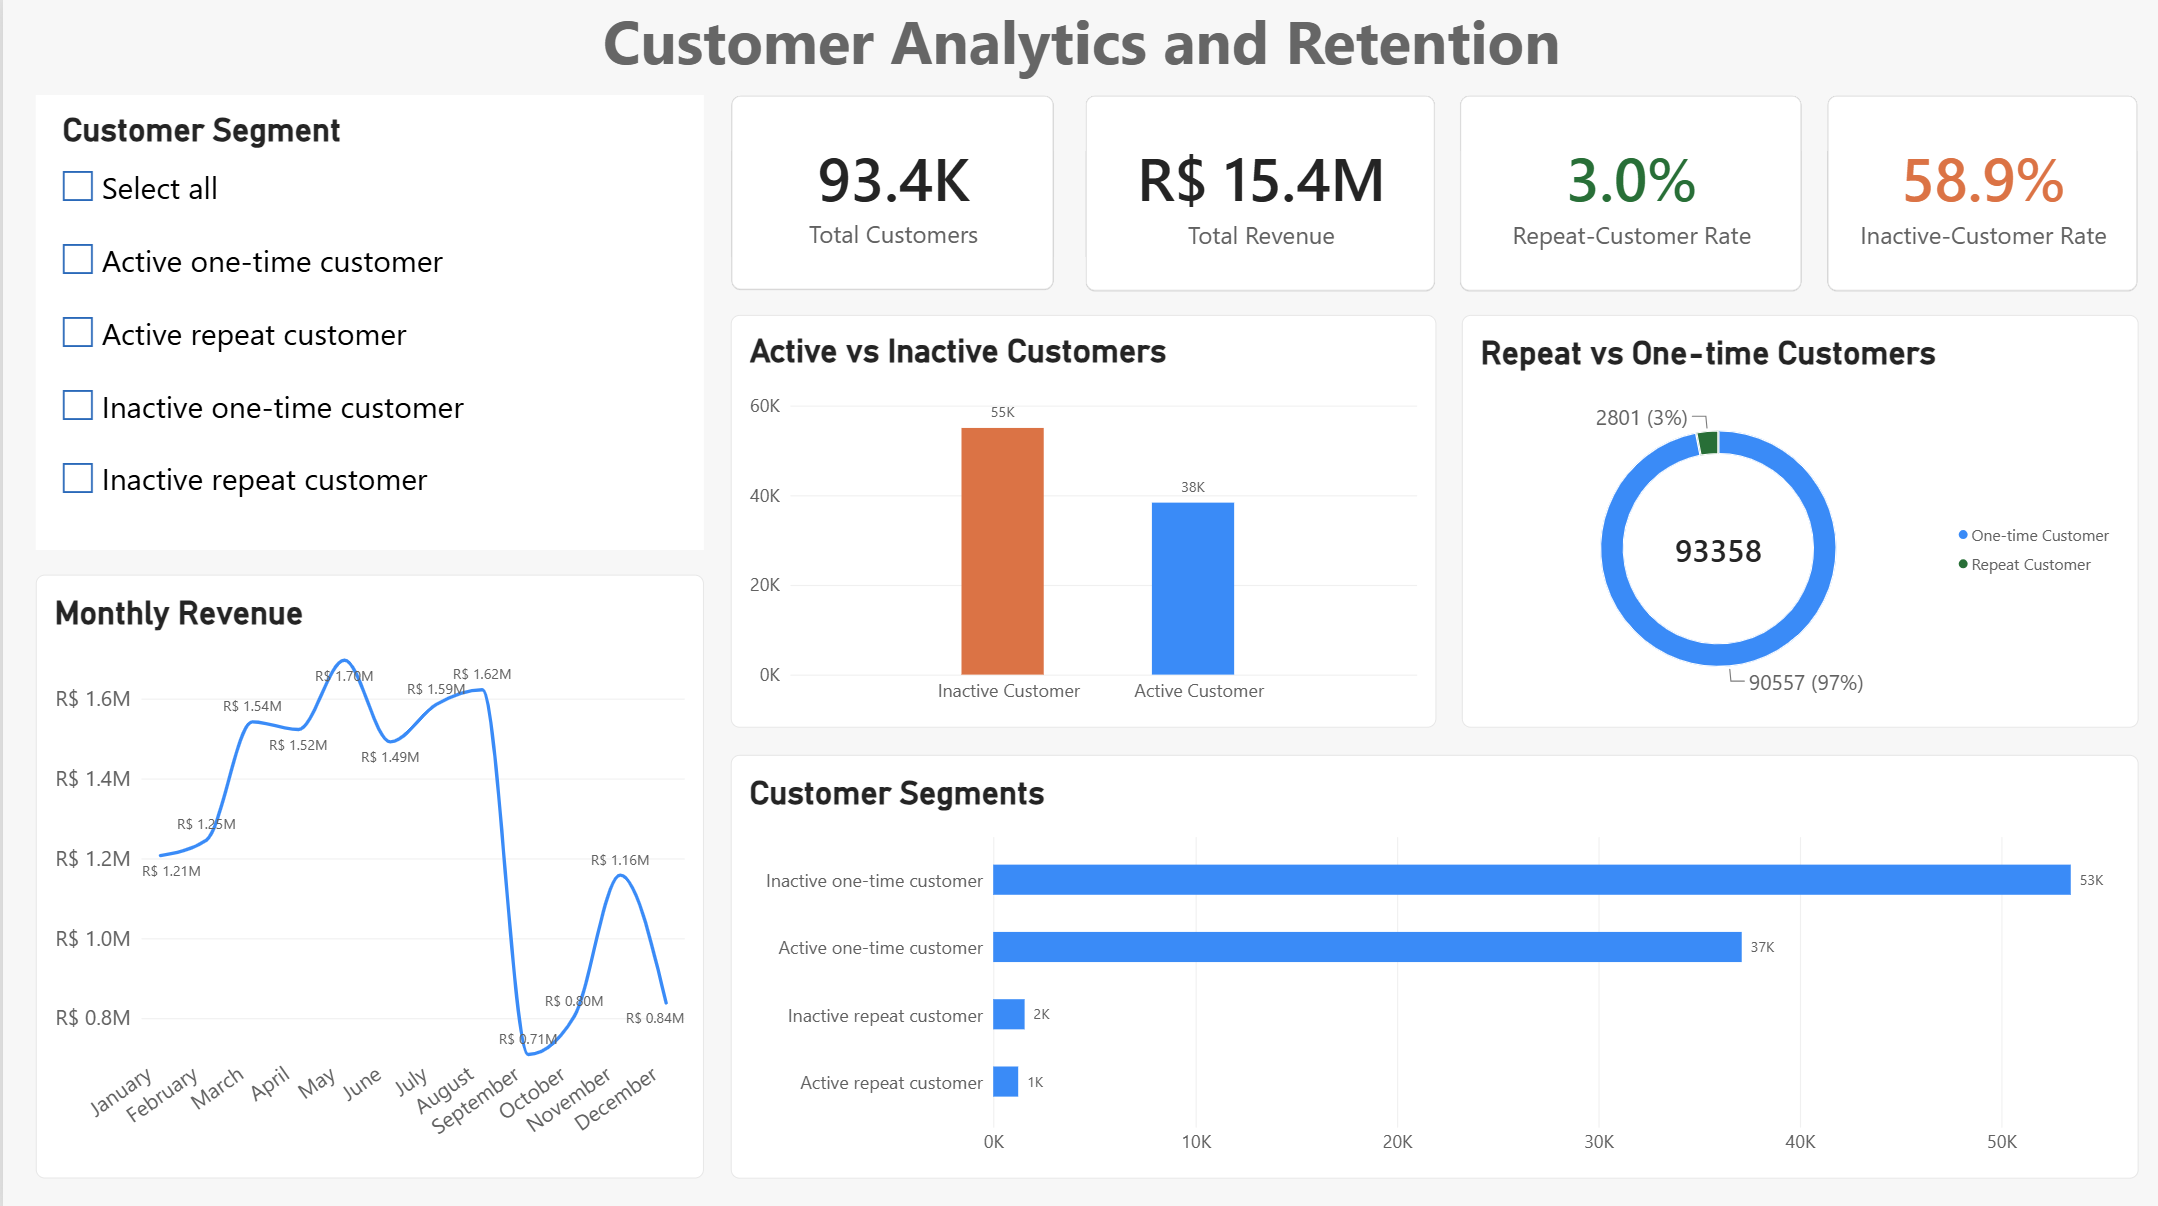

What the dashboard file says about the page in this screenshot:
{"tool":"powerbi","page":{"name":"Customer Analytics and Retention Dashboard","canvas":[1920,1080],"ordinal":0},"visuals":[{"type":"cardVisual","title":"Total Customers","fields":{"Data":["Count(customer_summary.customer_unique_id)"]},"box":[648,86,288,174],"z":0},{"type":"cardVisual","fields":{"Data":["Sum(customer_summary.total_payment)"]},"box":[963.3,85,312.5,175],"z":1000},{"type":"cardVisual","fields":{"Data":["Avg(customer_summary.is_repeat_customer)"]},"box":[1296.7,85,305,175],"z":2000},{"type":"cardVisual","fields":{"Data":["Avg(customer_summary.is_inactive)"]},"box":[1622.5,85,277.5,175],"z":3000},{"type":"clusteredBarChart","title":"Customer Segments","fields":{"Category":["customer_summary.customer_segment"],"Y":["CountNonNull(customer_summary.customer_unique_id)"]},"box":[647.5,672.5,1252.5,377.5],"z":4000},{"type":"lineChart","title":"Monthly Revenue","fields":{"Category":["customer_summary.first_order_date.Variation.Date Hierarchy.Month"],"Y":["Sum(customer_summary.total_payment)"]},"box":[30,512.5,595,537.5],"z":5000},{"type":"donutChart","title":"Repeat vs One-time Customers","fields":{"Category":["customer_summary.repeat_customer_label","customer_summary.is_repeat_customer"],"Y":["Count(customer_summary.customer_unique_id)"]},"box":[1297.5,282.1,602.5,367.5],"z":6000},{"type":"columnChart","title":"Active vs Inactive Customers","fields":{"Category":["customer_summary.activity_status"],"Y":["Count(customer_summary.customer_unique_id)"]},"box":[647.5,282.1,627.5,367.5],"z":7000},{"type":"slicer","fields":{"Values":["customer_summary.customer_segment"]},"box":[30,85,595,405],"z":8000},{"type":"textbox","box":[0,0,1920,85],"z":9000}]}

Visuals, with their boxes in screenshot pixels (x1, y1, x2, y2), scaled from the page's 1920x1080 canvas onto the 2158x1206 screenshot:
"Total Customers" cardVisual: pyautogui.locateOnScreen(728, 96, 1052, 290)
cardVisual - Sum(customer_summary.total_payment): pyautogui.locateOnScreen(1083, 95, 1434, 290)
cardVisual - Avg(customer_summary.is_repeat_customer): pyautogui.locateOnScreen(1457, 95, 1800, 290)
cardVisual - Avg(customer_summary.is_inactive): pyautogui.locateOnScreen(1824, 95, 2136, 290)
"Customer Segments" clusteredBarChart: pyautogui.locateOnScreen(728, 751, 2136, 1172)
"Monthly Revenue" lineChart: pyautogui.locateOnScreen(34, 572, 702, 1172)
"Repeat vs One-time Customers" donutChart: pyautogui.locateOnScreen(1458, 315, 2136, 725)
"Active vs Inactive Customers" columnChart: pyautogui.locateOnScreen(728, 315, 1433, 725)
slicer - customer_summary.customer_segment: pyautogui.locateOnScreen(34, 95, 702, 547)
textbox: pyautogui.locateOnScreen(0, 0, 2157, 95)
